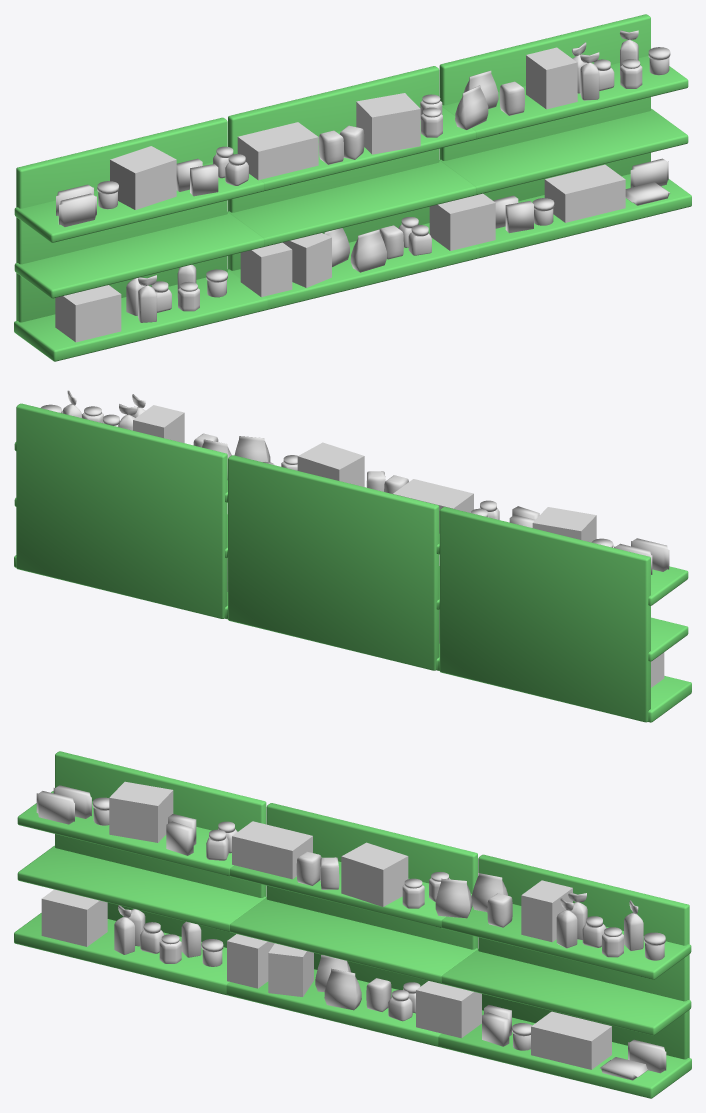
File: RepartoDolci.fbx
The picture shows the model from 3 angles, top to bottom: view 1: azimuth 30°, elevation 25°; view 2: azimuth 150°, elevation 25°; view 3: azimuth 330°, elevation 25°; orthographic projection.
Visible parts, largest first — view 1: RepartoDolciEPane, Cioccolata; view 2: RepartoDolciEPane, Cioccolata; view 3: RepartoDolciEPane, Cioccolata.
Part boxes in pixels (x1=…): RepartoDolciEPane: x1=14, y1=14, x2=691, y2=361; Cioccolata: x1=55, y1=30, x2=670, y2=342; RepartoDolciEPane: x1=14, y1=403, x2=691, y2=722; Cioccolata: x1=41, y1=390, x2=669, y2=687; RepartoDolciEPane: x1=14, y1=751, x2=691, y2=1098; Cioccolata: x1=36, y1=781, x2=666, y2=1080.
Bounding box in the file's own units: 1162 × 296 × 134.
